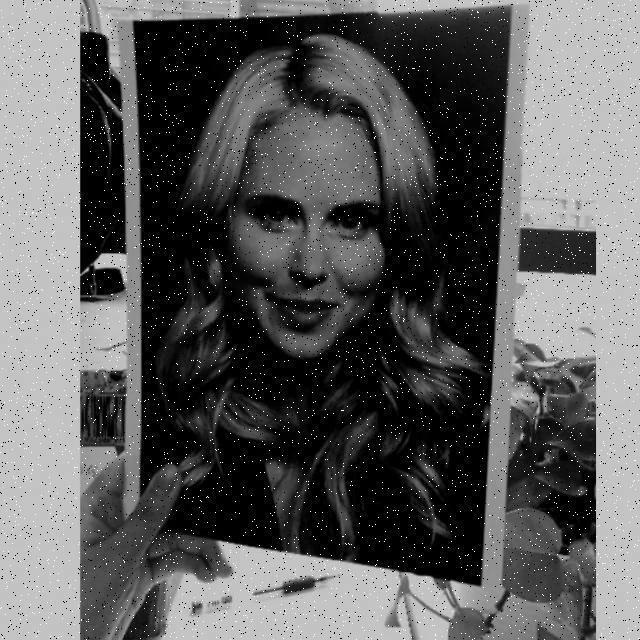fake: (113, 3, 537, 593)
